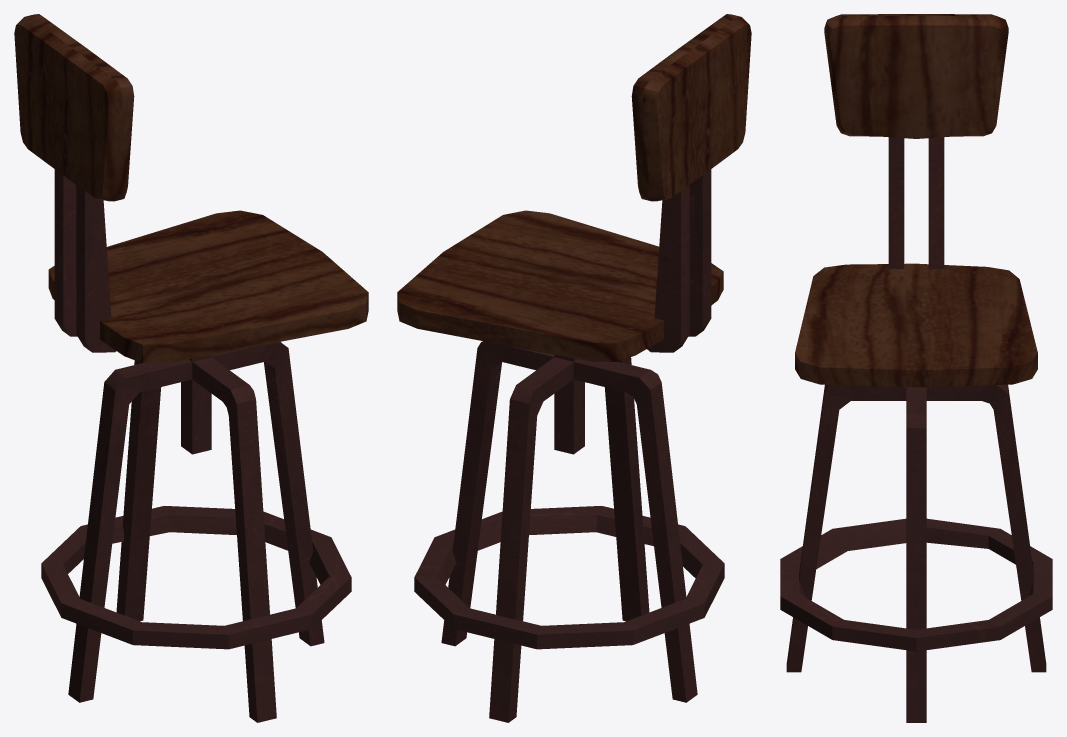
File: LabChair.fbx
The picture shows the model from 3 angles, left to right: view 1: azimuth 30°, elevation 25°; view 2: azimuth 150°, elevation 25°; view 3: azimuth 270°, elevation 25°; orthographic projection. The views are drawn at different scales.
Parts seen in each view (by area): view 1: Lab_Chair; view 2: Lab_Chair; view 3: Lab_Chair.
Boxes of the visible parts, x1=… form: Lab_Chair: x1=14, y1=14, x2=368, y2=722; Lab_Chair: x1=397, y1=14, x2=751, y2=722; Lab_Chair: x1=780, y1=14, x2=1052, y2=722.
Bounding box in the file's own units: 9.99 × 23.01 × 9.5.
